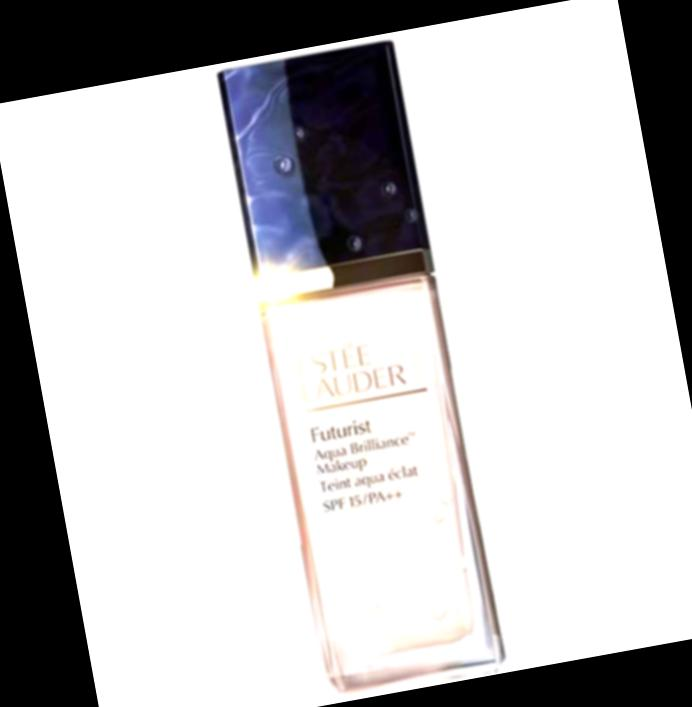cosmetic: (214, 37, 510, 700)
